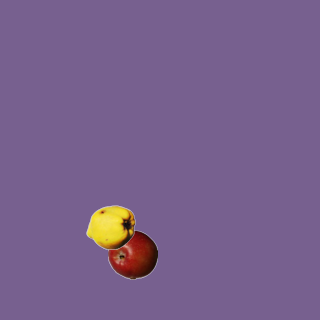Apple Braeburn: (107, 229, 157, 279)
Quince: (85, 202, 135, 252)
